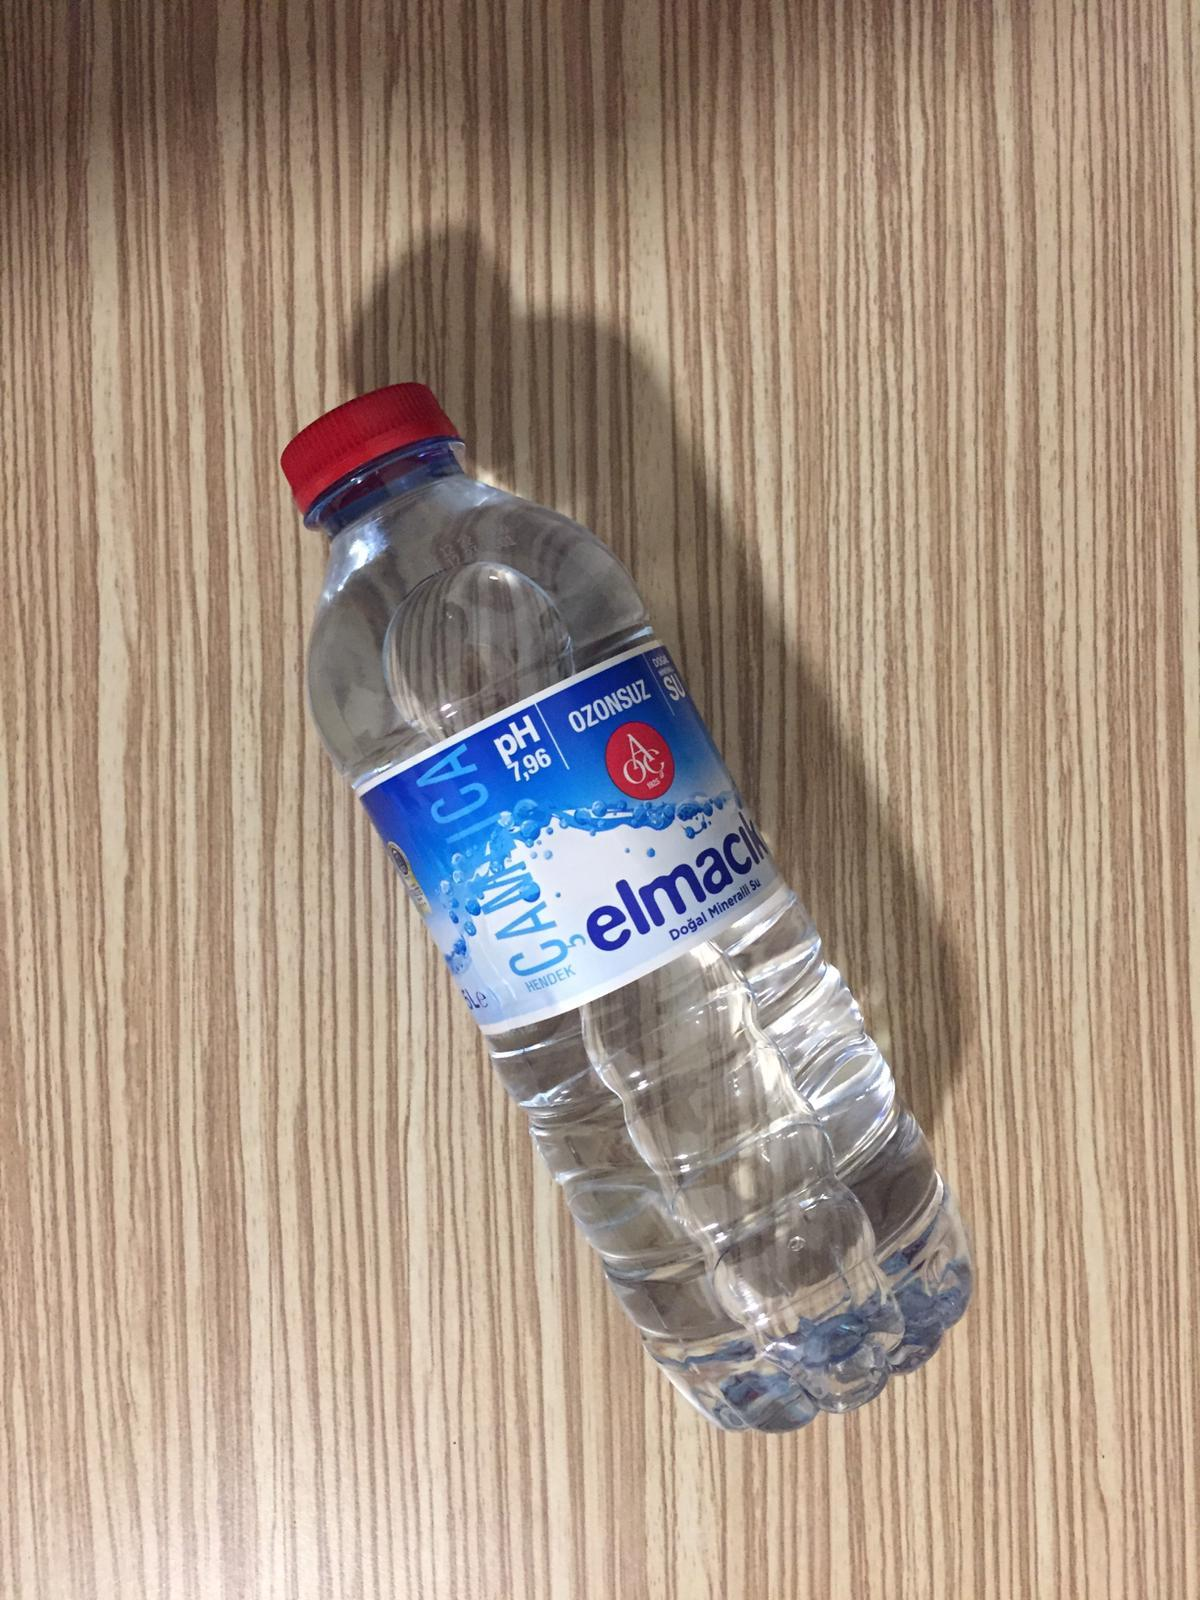bottle: (281, 375, 981, 1430)
